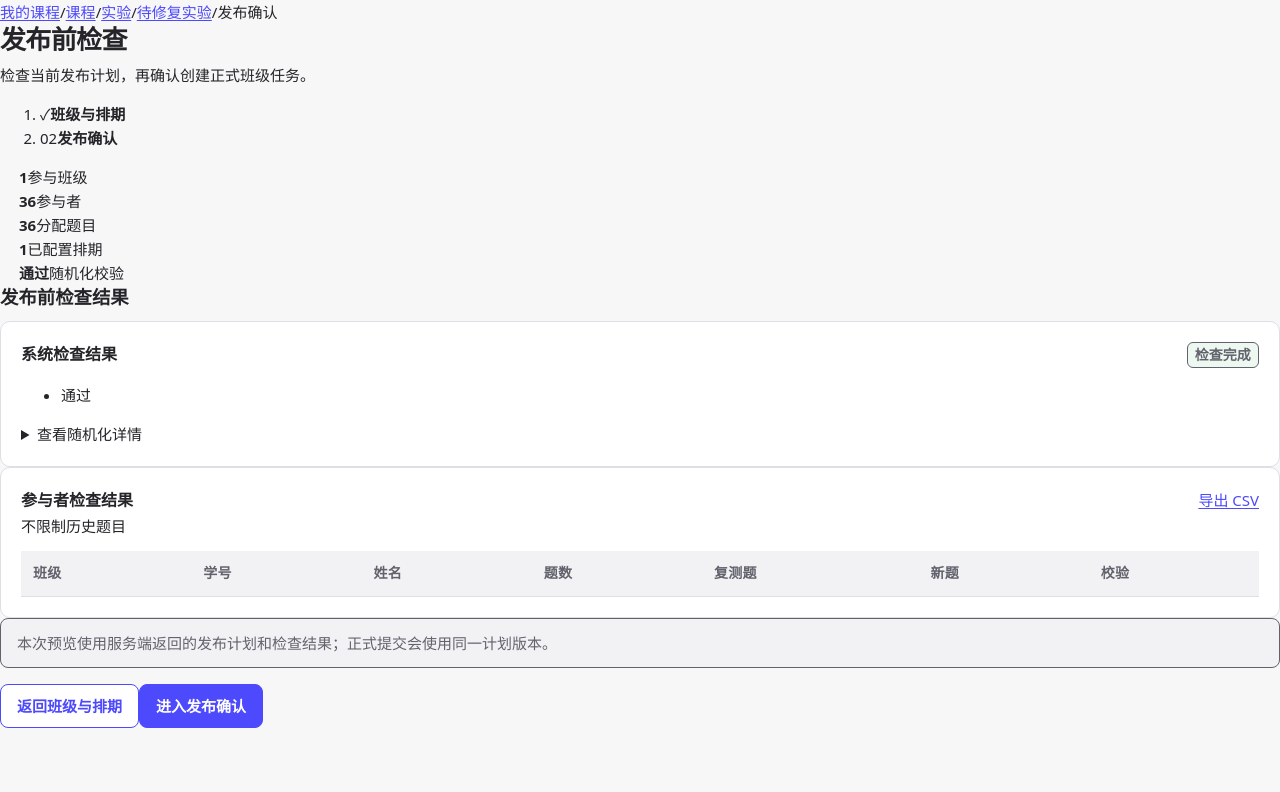
Scenario: TeacherExperimentPublishPlan › renders a draft with a deleted bank without crashing
Click the button "进入发布确认".
click(201, 706)  # box [139,684,263,728]
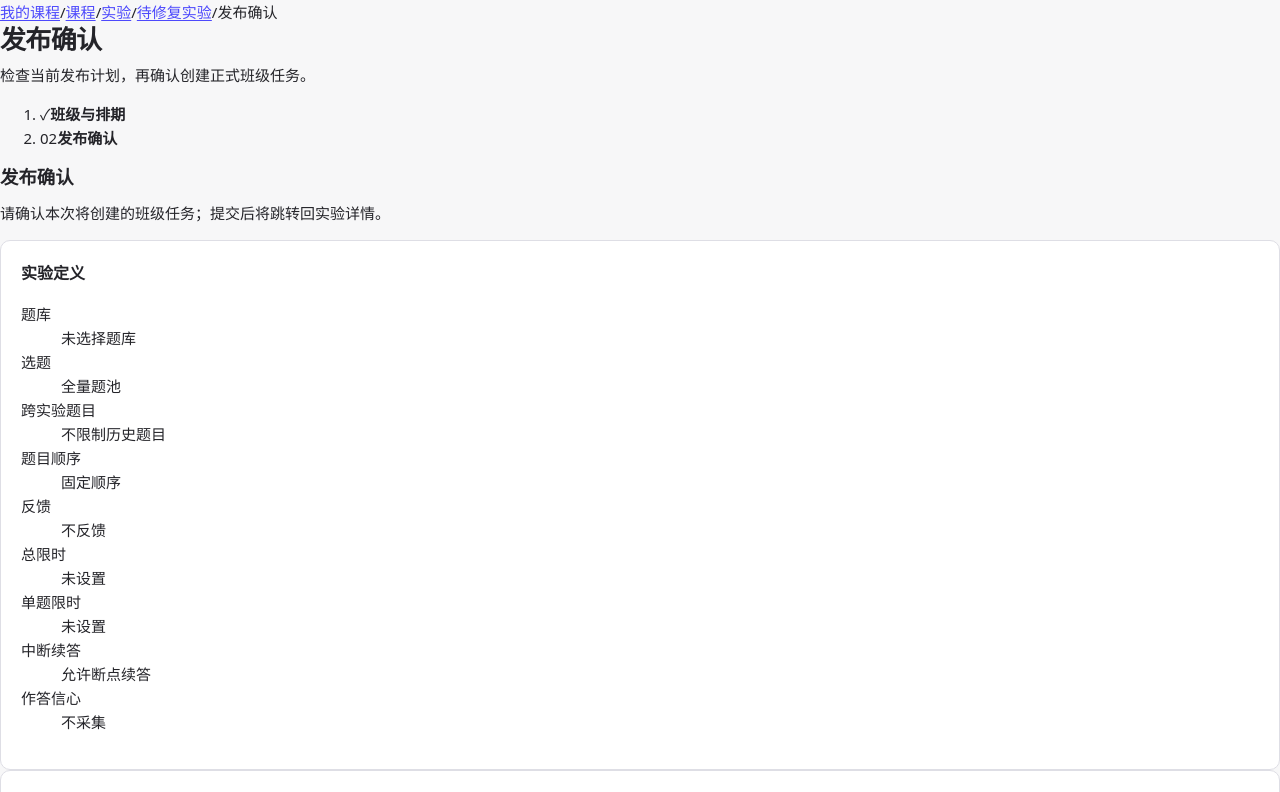
expect the element with class "kt-definition-summary__list" shows "未选择题库": met, box [61,328,136,348]
